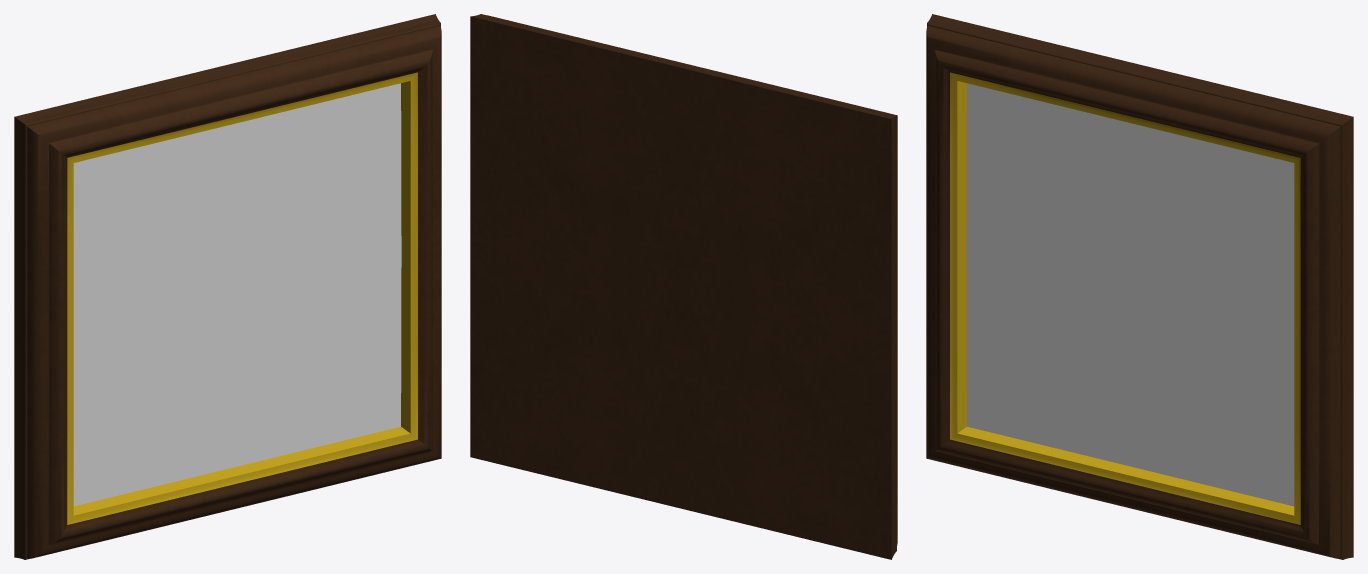
Rendered from picture_frame2.fbx.
3 renders of one model, left to right at view 1: azimuth 30°, elevation 25°; view 2: azimuth 150°, elevation 25°; view 3: azimuth 330°, elevation 25°, orthographic.
Visible parts, largest first — view 1: 立方体; view 2: 立方体; view 3: 立方体.
Boxes of the visible parts, x1=… form: 立方体: x1=14, y1=14, x2=441, y2=559; 立方体: x1=470, y1=14, x2=897, y2=559; 立方体: x1=926, y1=14, x2=1353, y2=559.
Bounding box in the file's own units: 189 × 189 × 15.3.
Materials: 3 (1 with a texture image).
